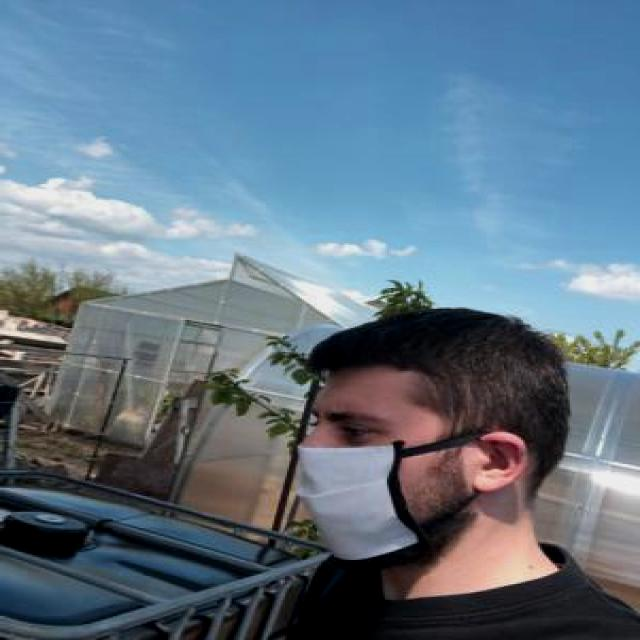face_mask: (298, 400, 427, 566)
head_nohelmet: (300, 300, 550, 398)
person: (206, 285, 640, 640)
